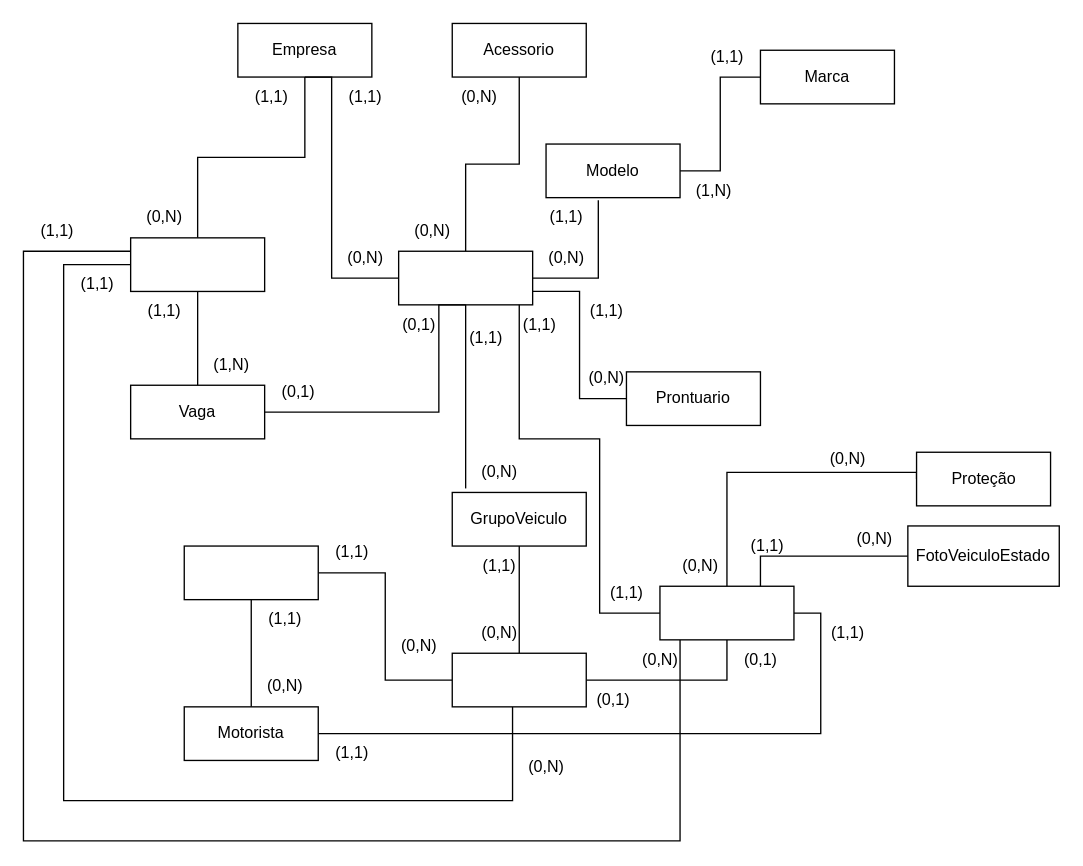
Some shapes in this 1083 by 866 pixel diagram are drawn without their labels. The centre of each missing label's shape, as x and y in pixels:
"Cliente" belongs at pixel 250 572.
"Locação" belongs at pixel 726 612.
"Pátio" belongs at pixel 197 264.
"Reserva" belongs at pixel 518 679.
"Veiculo" belongs at pixel 465 277.
